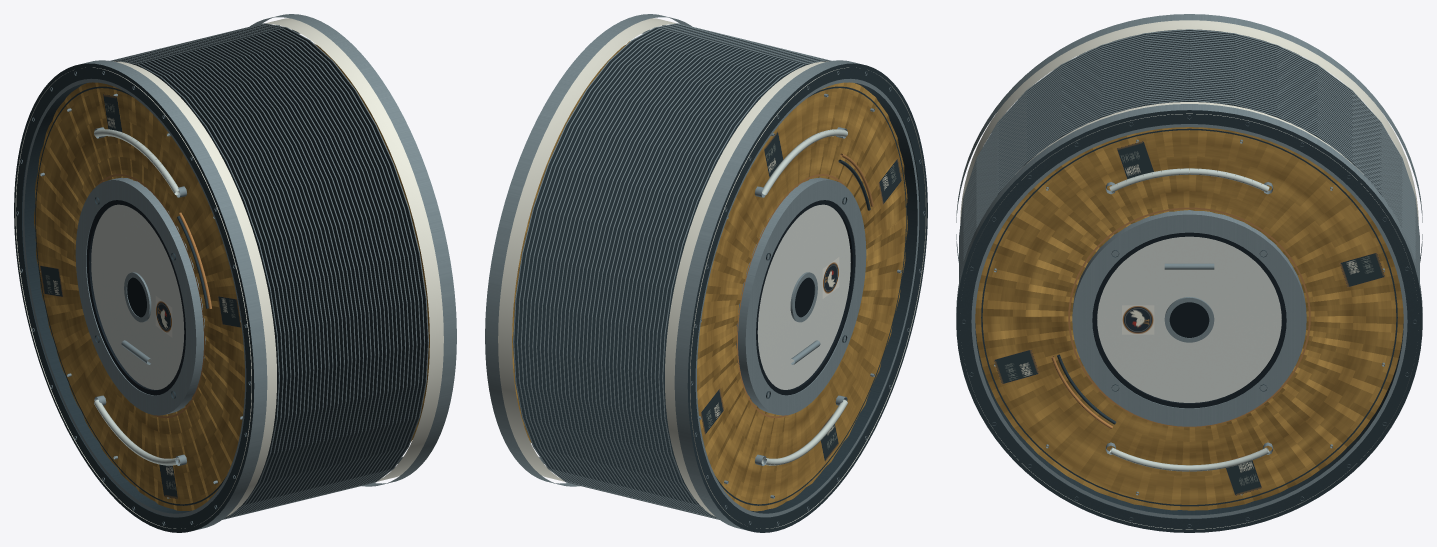
File: RW_GND_FLEX.obj
3 renders of one model, left to right at view 1: azimuth 30°, elevation 25°; view 2: azimuth 150°, elevation 25°; view 3: azimuth 270°, elevation 25°, orthographic. The views are drawn at different scales.
Parts seen in each view (by area): view 1: RW_FlexPressureBellows, RW_FlexReinforcingHoops, FlexEnd_RW_TubeBase_hubblanket, FlexEnd_RW_TubeBase_steel, FlexEnd_RW_TubeBase_graphite, FlexEnd_RW_TubeBase_ceramic, FlexCollar_RW_TubeNose, FlexEnd_RW_TubeNose_steel, FlexCollar_RW_TubeBase, FlexEnd_RW_TubeBase_detail, FlexEnd_RW_TubeBase_black, FlexEnd_RW_TubeBase_rail (+4 smaller); view 2: RW_FlexPressureBellows, RW_FlexReinforcingHoops, FlexEnd_RW_TubeBase_hubblanket, FlexEnd_RW_TubeBase_steel, FlexEnd_RW_TubeBase_graphite, FlexEnd_RW_TubeBase_ceramic, FlexCollar_RW_TubeNose, FlexEnd_RW_TubeNose_steel, FlexCollar_RW_TubeBase, FlexEnd_RW_TubeBase_detail, FlexEnd_RW_TubeBase_black, FlexEnd_RW_TubeBase_rail (+4 smaller); view 3: FlexEnd_RW_TubeNose_hubblanket, RW_FlexReinforcingHoops, FlexEnd_RW_TubeNose_graphite, FlexEnd_RW_TubeNose_steel, FlexEnd_RW_TubeNose_ceramic, RW_FlexPressureBellows, FlexCollar_RW_TubeBase, FlexEnd_RW_TubeNose_detail, FlexEnd_RW_TubeBase_steel, FlexEnd_RW_TubeNose_black, FlexEnd_RW_TubeNose_rail, FlexEnd_RW_TubeNose_bronze (+3 smaller).
Part boxes in pixels (x1,y1,x2,y2): RW_FlexPressureBellows: (114, 24, 427, 518); RW_FlexReinforcingHoops: (110, 23, 428, 519); FlexEnd_RW_TubeBase_hubblanket: (34, 82, 244, 510); FlexEnd_RW_TubeBase_steel: (16, 60, 267, 529); FlexEnd_RW_TubeBase_graphite: (14, 63, 254, 532); FlexEnd_RW_TubeBase_ceramic: (91, 204, 184, 389); FlexCollar_RW_TubeNose: (266, 18, 443, 481); FlexEnd_RW_TubeNose_steel: (250, 14, 456, 486); FlexCollar_RW_TubeBase: (15, 61, 276, 528); FlexEnd_RW_TubeBase_detail: (39, 94, 241, 499); FlexEnd_RW_TubeBase_black: (86, 200, 185, 395); FlexEnd_RW_TubeBase_rail: (94, 129, 180, 465); RW_FlexPressureBellows: (514, 24, 827, 518); RW_FlexReinforcingHoops: (513, 23, 831, 519); FlexEnd_RW_TubeBase_hubblanket: (697, 82, 907, 511); FlexEnd_RW_TubeBase_steel: (674, 60, 925, 529); FlexEnd_RW_TubeBase_graphite: (687, 63, 927, 532); FlexEnd_RW_TubeBase_ceramic: (757, 204, 850, 389); FlexCollar_RW_TubeNose: (498, 18, 675, 481); FlexEnd_RW_TubeNose_steel: (485, 14, 691, 486); FlexCollar_RW_TubeBase: (665, 61, 926, 528); FlexEnd_RW_TubeBase_detail: (700, 131, 902, 461); FlexEnd_RW_TubeBase_black: (756, 200, 855, 395); FlexEnd_RW_TubeBase_rail: (761, 129, 847, 465); FlexEnd_RW_TubeNose_hubblanket: (975, 127, 1403, 510); RW_FlexReinforcingHoops: (959, 29, 1419, 281); FlexEnd_RW_TubeNose_graphite: (956, 110, 1422, 532); FlexEnd_RW_TubeNose_steel: (956, 104, 1422, 527); FlexEnd_RW_TubeNose_ceramic: (1097, 236, 1281, 402); RW_FlexPressureBellows: (998, 30, 1380, 194); FlexCollar_RW_TubeBase: (960, 20, 1418, 222); FlexEnd_RW_TubeNose_detail: (993, 141, 1385, 495); FlexEnd_RW_TubeBase_steel: (956, 14, 1422, 262); FlexEnd_RW_TubeNose_black: (1092, 232, 1286, 408); FlexEnd_RW_TubeNose_rail: (1109, 168, 1269, 471); FlexEnd_RW_TubeNose_bronze: (1051, 207, 1310, 428).
Size of the model in its own units: 1.2 by 2.45 by 2.45.
Materials: 11 (11 with a texture image).
